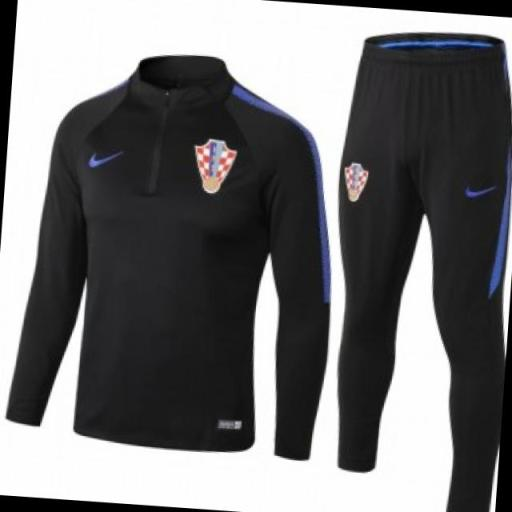Nike: (83, 142, 129, 172)
